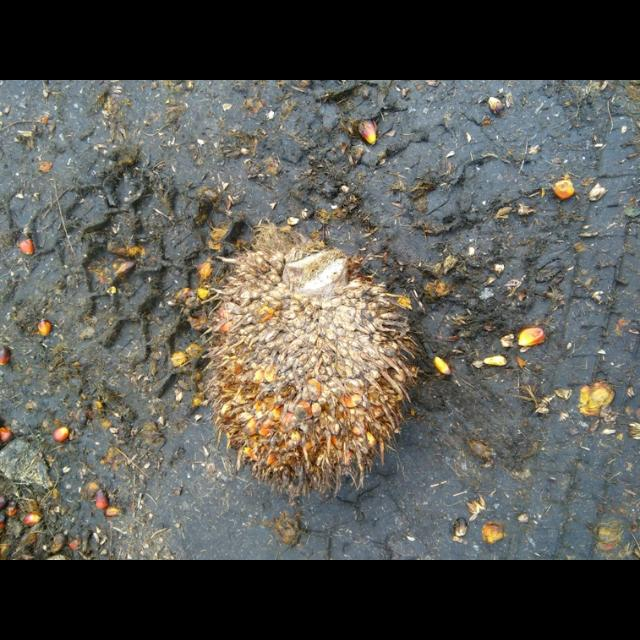Overripe: (201, 225, 426, 501)
